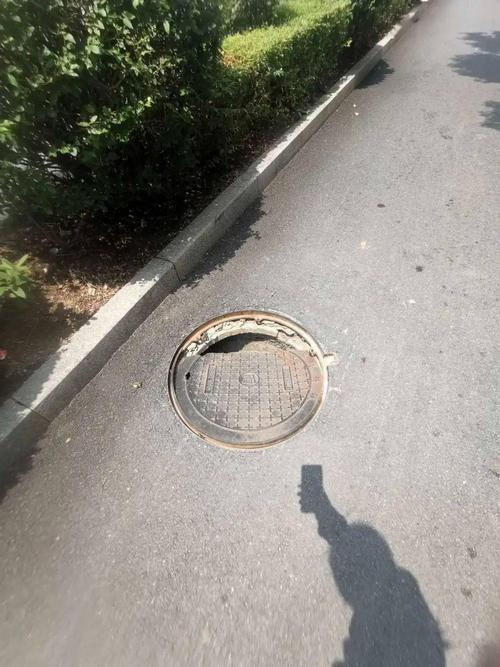broke: (148, 302, 358, 461)
